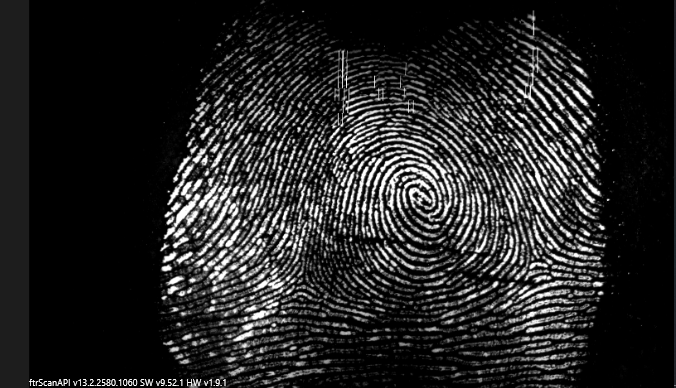deltas: (498, 231, 571, 290), (268, 249, 325, 305)
nucleo: (372, 159, 453, 227)
